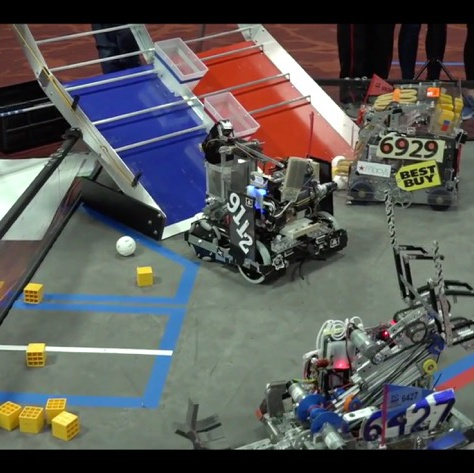robot: (250, 239, 474, 454), (180, 114, 354, 289), (344, 77, 464, 212)
